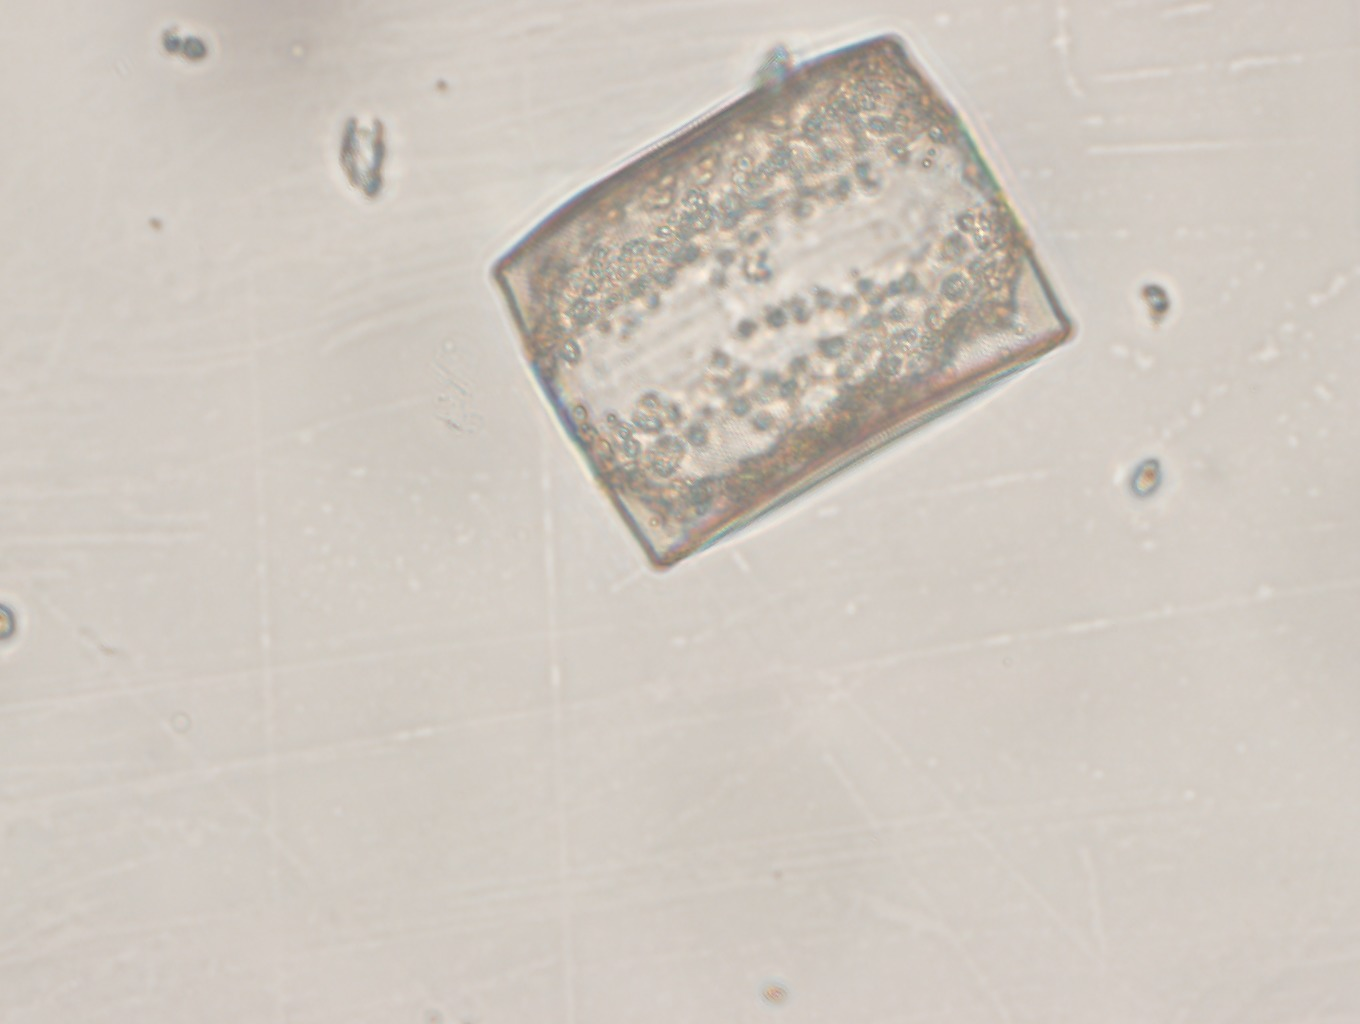coscinodiscus flank: (487, 31, 1079, 572)
